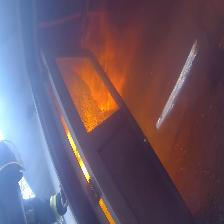fire: (71, 21, 127, 121)
